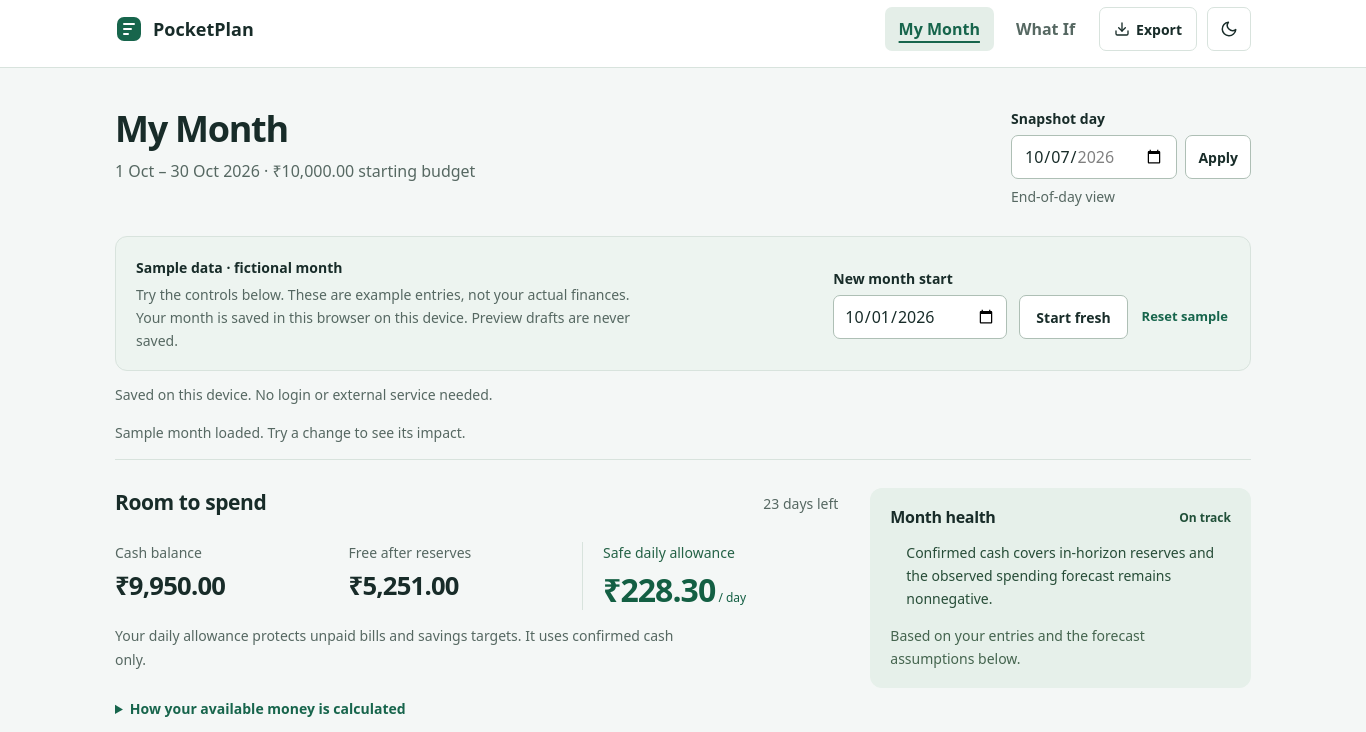
Test: What If shared-state controls › previews a critical emergency without changing the committed health
Click the button "What If": (1046, 29) top-left (1002, 7), bottom-right (1089, 51)
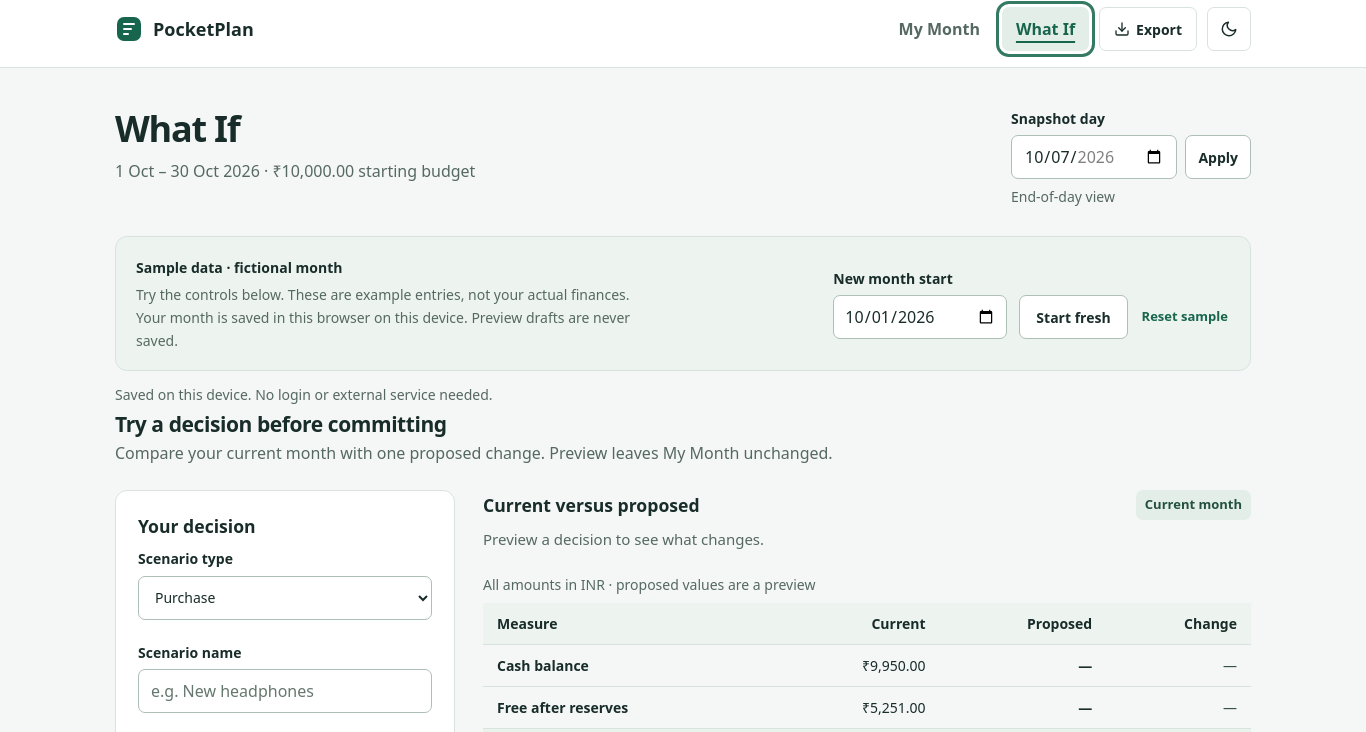
Select "Emergency cost" in the dropdown labelled "Scenario type": (285, 598) top-left (138, 576), bottom-right (432, 620)
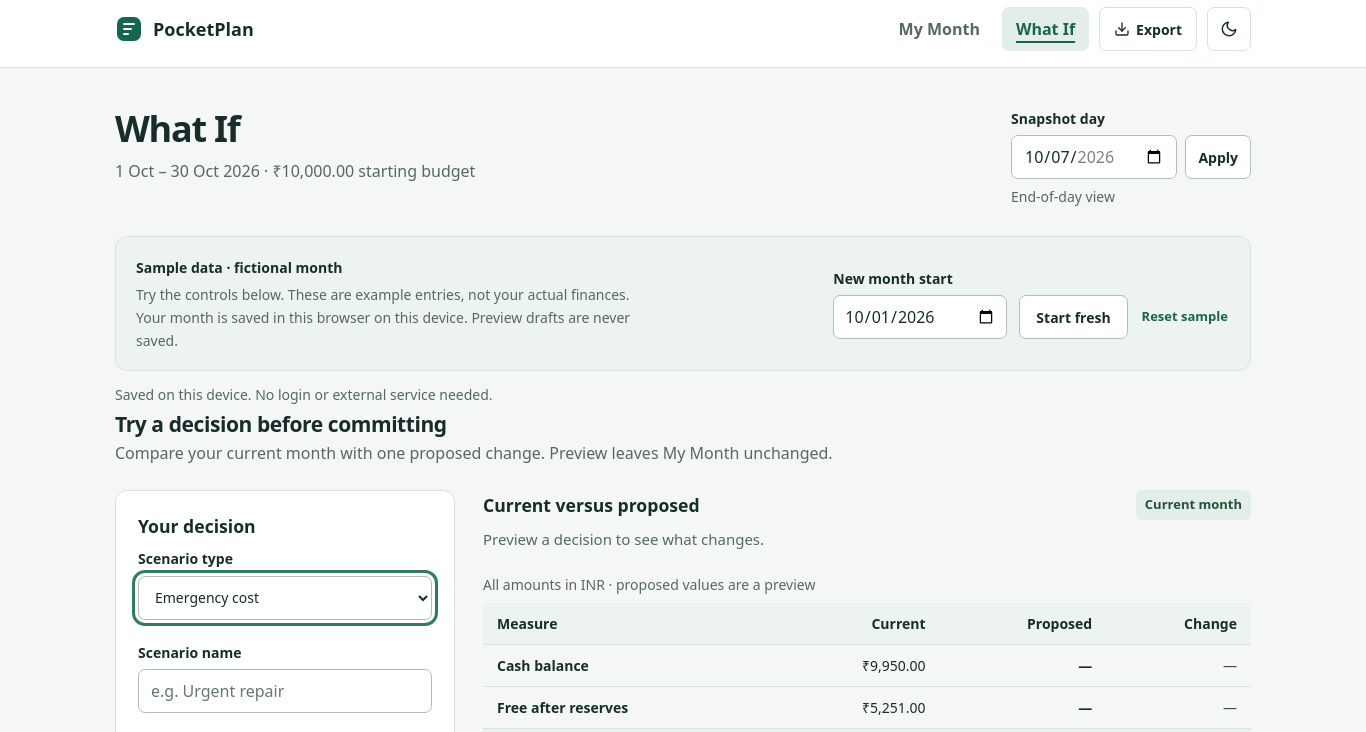
In the field labelled "Scenario name": (285, 691) top-left (138, 669), bottom-right (432, 713), type "Headphones"
(page scrolled)
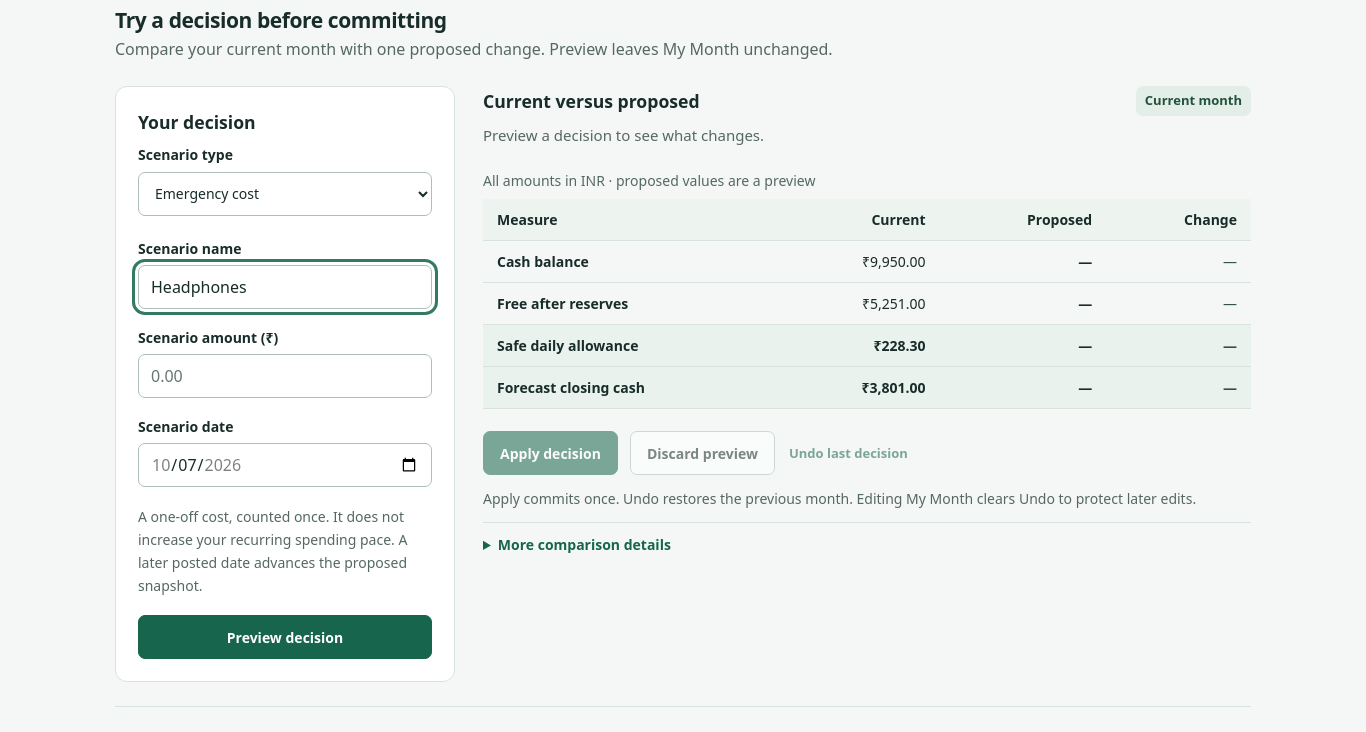
In the field labelled "Scenario amount (₹)": (285, 376) top-left (138, 354), bottom-right (432, 398), type "12000"
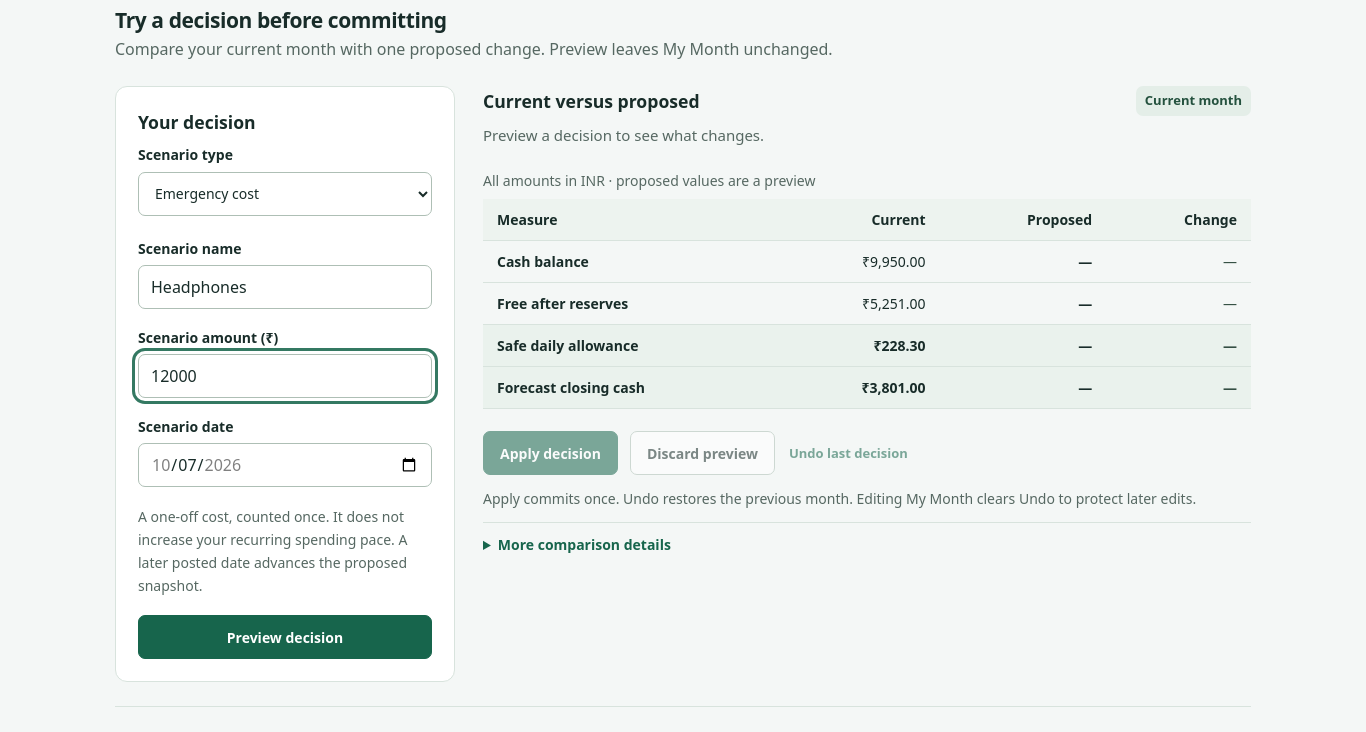
Click the button "Preview decision": (285, 637) top-left (138, 615), bottom-right (432, 659)
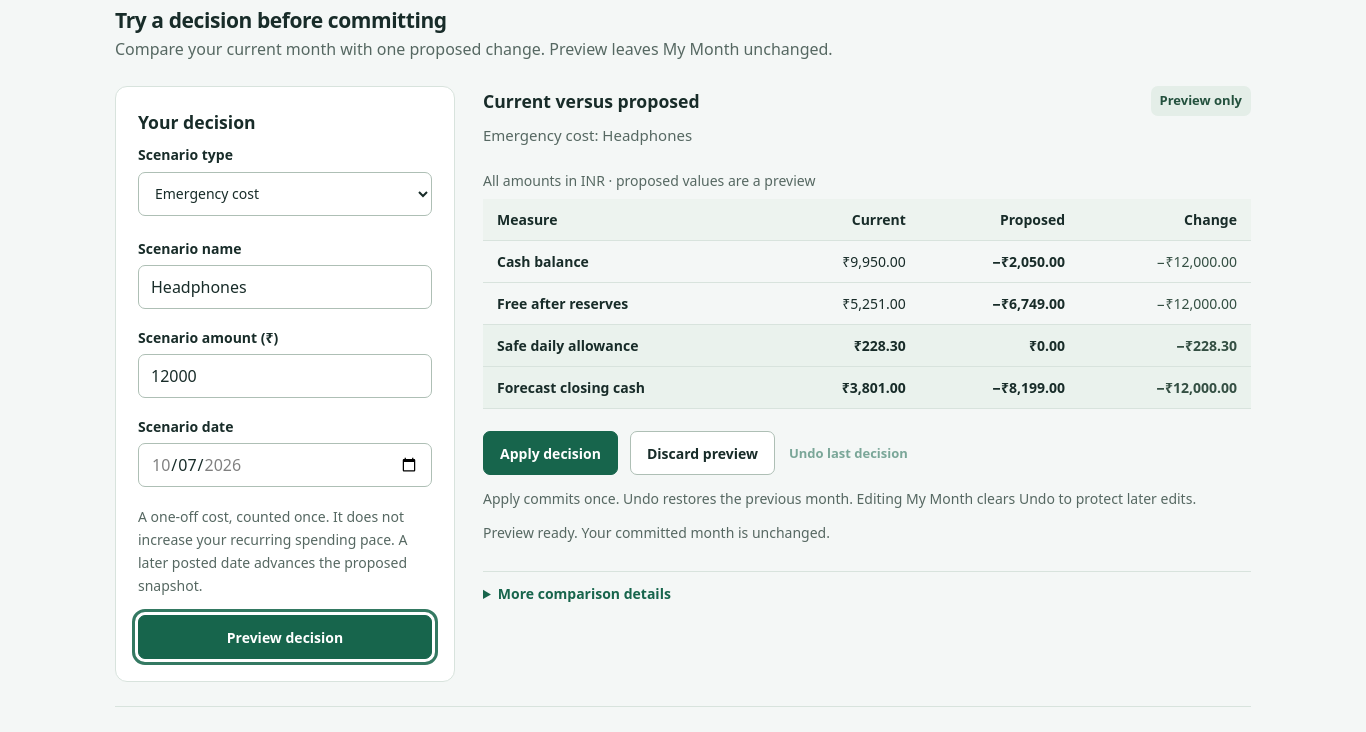
expect the cell with test id "whatif-proposed-cash" reads "−₹2,050.00": met, box top-left (992, 252), bottom-right (1065, 271)
Click the button "Discard preview": (702, 453) top-left (630, 431), bottom-right (775, 475)
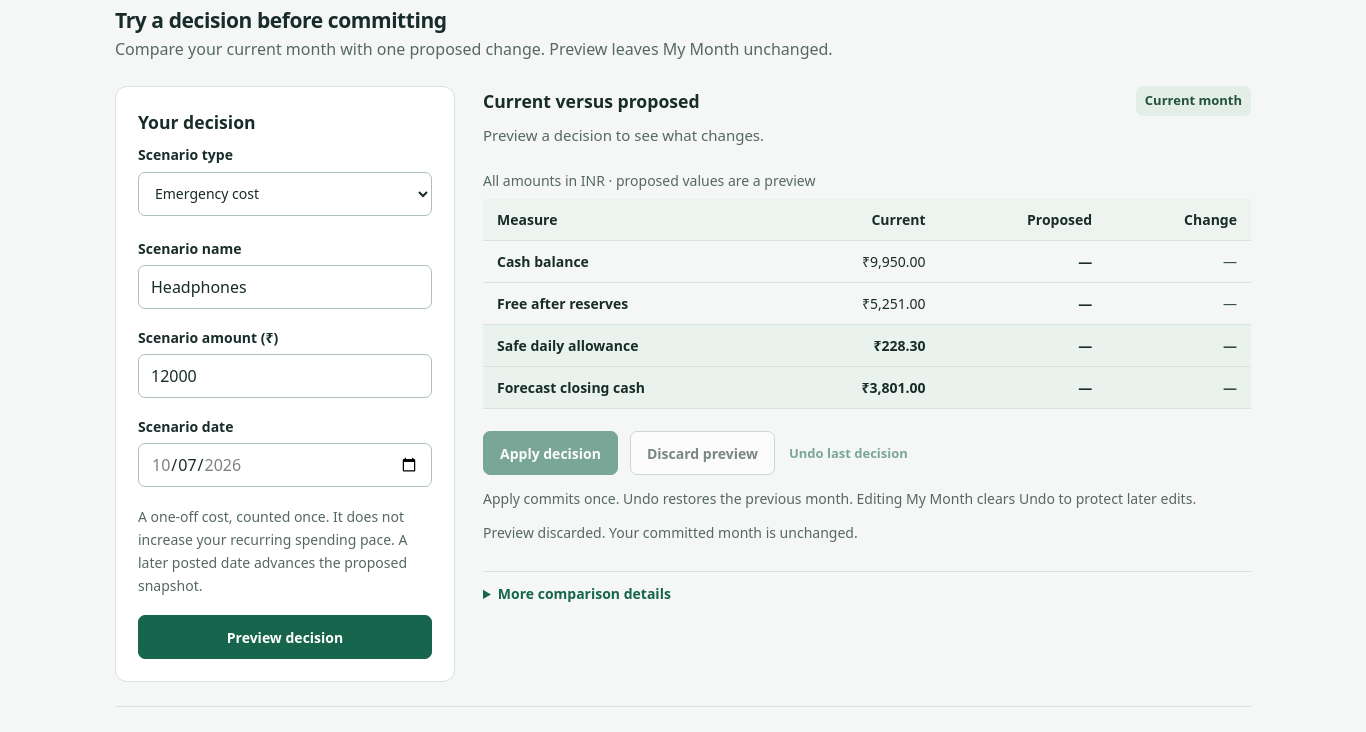
expect the button "Apply decision" is disabled: met, box top-left (483, 431), bottom-right (618, 475)
